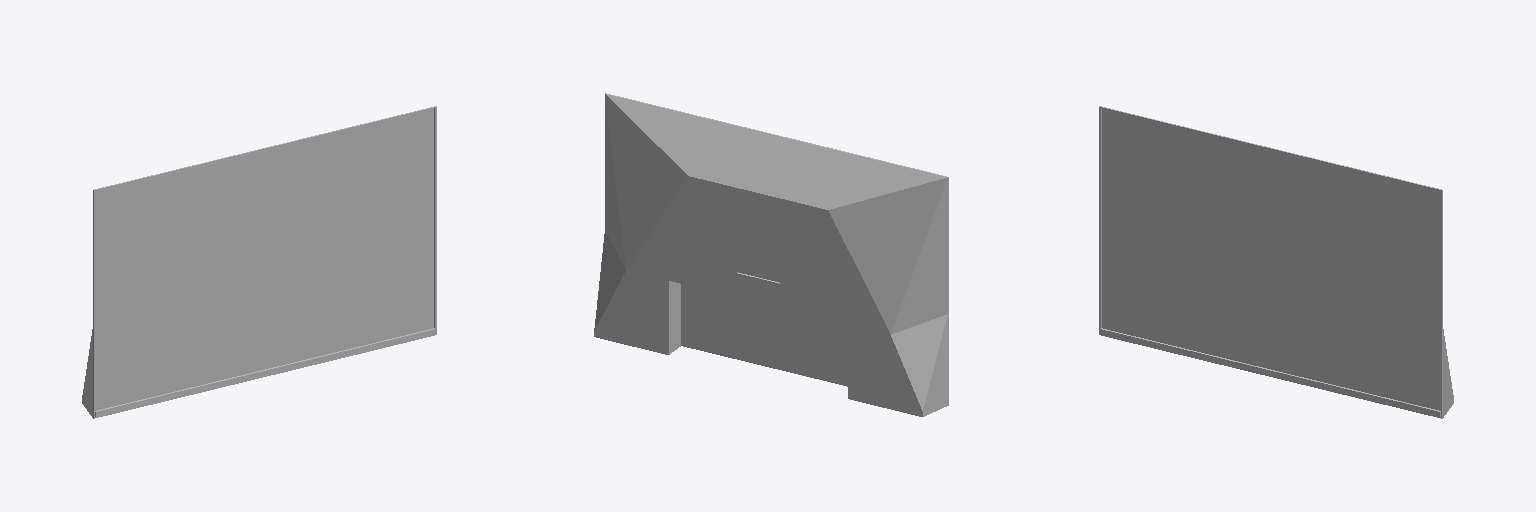
File: monitor2.obj
3 renders of one model, left to right at view 1: azimuth 30°, elevation 25°; view 2: azimuth 150°, elevation 25°; view 3: azimuth 330°, elevation 25°, orthographic.
Visible parts, largest first — view 1: Cube.014_Material.004; view 2: Cube.014_Material.004; view 3: Cube.014_Material.004.
Boxes of the visible parts, <box> form: Cube.014_Material.004: <box>82,106,436,418</box>; Cube.014_Material.004: <box>594,93,948,416</box>; Cube.014_Material.004: <box>1099,106,1453,418</box>.
Bounding box in the file's own units: 0.55 × 0.35 × 0.0531.